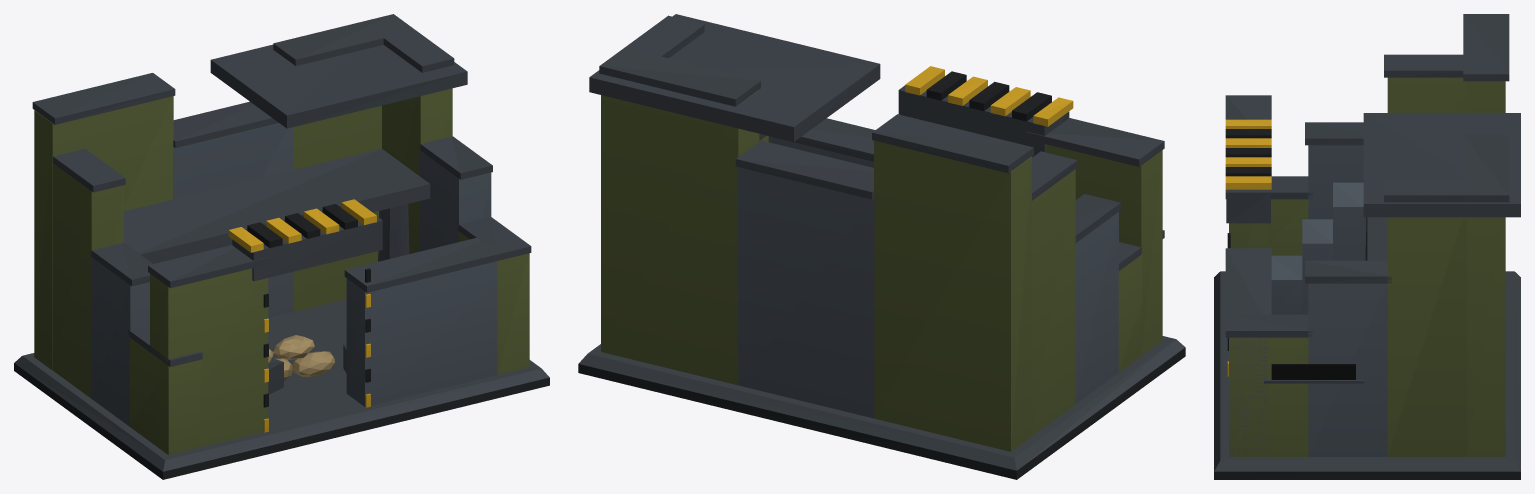
Rendered from outpost-bunker.glb.
3 renders of one model, left to right at view 1: azimuth 30°, elevation 25°; view 2: azimuth 150°, elevation 25°; view 3: azimuth 270°, elevation 25°, orthographic. The views are drawn at different scales.
Bounding box in the file's own units: 6 × 4 × 4.
